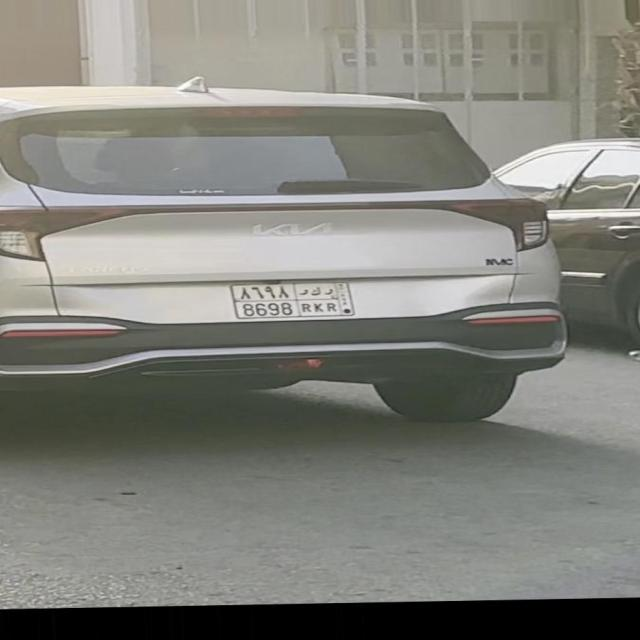Car-plate: (220, 274, 367, 325)
